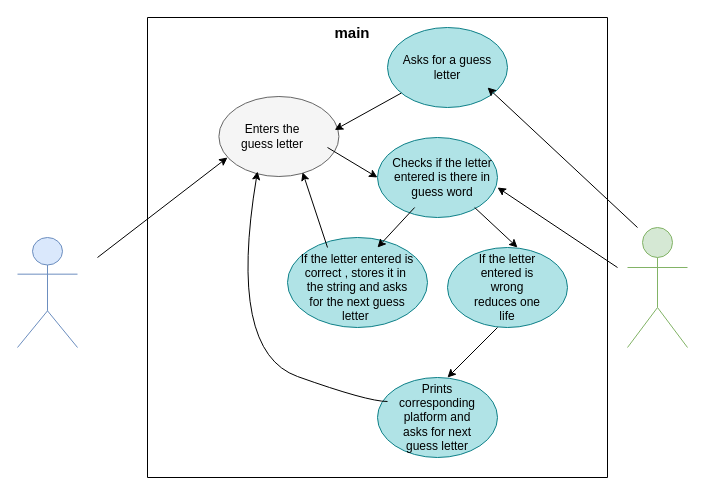
This 719x495 diagram has some shape labels left out. The box of each missing label's shape, as (x1, y1, x2, y2) in pixels:
GAME SYSTEM: (626, 226, 688, 348)
PLAYER: (16, 236, 78, 348)
